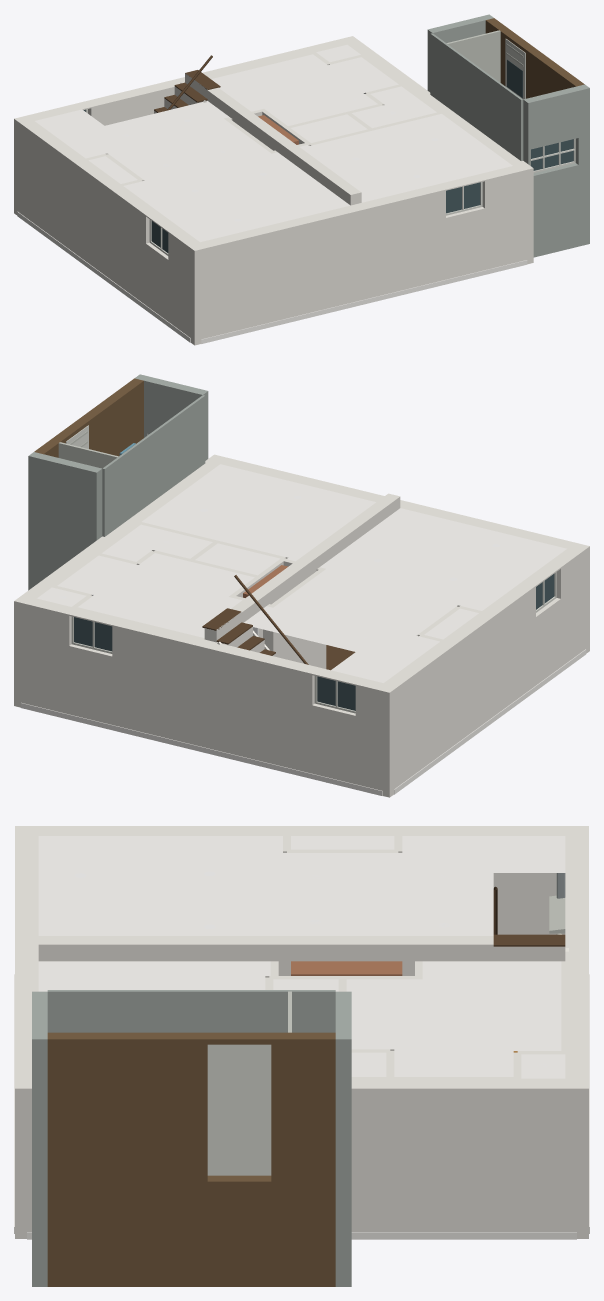
The picture shows the model from 3 angles, top to bottom: view 1: azimuth 30°, elevation 25°; view 2: azimuth 150°, elevation 25°; view 3: azimuth 270°, elevation 25°; orthographic projection. The views are drawn at different scales.
Visible parts, largest first — view 1: ext-top.001, Ceiling/living.001, Existing/Bulkhead window end/2/3.001, chimney-closet-return.001, ext-top/right trim.001, Existing/Bulkhead far wall/2/3.001, Existing/Window stairs/dark glass.001, Existing/Foundation reveal/stairs.001, Existing/Window stairs/rail1.001, Floor/living.001; view 2: ext-top.001, Ceiling/living.001, Existing/Bulkhead window end/2/3.001, chimney-closet-return.001, Existing/Bulkhead far wall/2/3.001, ext-top/right trim.001, Existing/Window stairs/dark glass.001, Floor/living.001, Existing/Window stairs/rail1.001, Existing/Foundation reveal/stairs.001; view 3: Ceiling/living.001, Existing/Bulkhead far wall/2/3.001, chimney-closet-return.001, Existing/Bulkhead window end/2/3.001, ext-top.001, Existing/Window stairs/rail1.001, ext-right-upper/right trim.001, chimney-mass.001, Floor/living.001, Existing/Foundation reveal/stairs.001.
Part boxes in pixels (bbox=[...]): ext-top.001: bbox=[14, 36, 533, 345]; Ceiling/living.001: bbox=[35, 44, 512, 242]; Existing/Bulkhead window end/2/3.001: bbox=[427, 14, 589, 257]; chimney-closet-return.001: bbox=[86, 36, 532, 205]; ext-top/right trim.001: bbox=[17, 211, 527, 343]; Existing/Bulkhead far wall/2/3.001: bbox=[485, 18, 584, 98]; Existing/Window stairs/dark glass.001: bbox=[83, 59, 573, 252]; Existing/Foundation reveal/stairs.001: bbox=[446, 30, 523, 82]; Existing/Window stairs/rail1.001: bbox=[85, 38, 575, 255]; Floor/living.001: bbox=[154, 55, 220, 112]; ext-top.001: bbox=[14, 454, 589, 797]; Ceiling/living.001: bbox=[37, 464, 566, 682]; Existing/Bulkhead window end/2/3.001: bbox=[28, 374, 208, 590]; chimney-closet-return.001: bbox=[14, 455, 481, 668]; Existing/Bulkhead far wall/2/3.001: bbox=[34, 378, 143, 457]; ext-top/right trim.001: bbox=[21, 649, 586, 795]; Existing/Window stairs/dark glass.001: bbox=[74, 574, 554, 710]; Floor/living.001: bbox=[202, 575, 355, 670]; Existing/Window stairs/rail1.001: bbox=[66, 425, 556, 713]; Existing/Foundation reveal/stairs.001: bbox=[58, 431, 118, 468]; Ceiling/living.001: bbox=[38, 836, 565, 1078]; Existing/Bulkhead far wall/2/3.001: bbox=[47, 1032, 335, 1286]; chimney-closet-return.001: bbox=[15, 836, 588, 1238]; Existing/Bulkhead window end/2/3.001: bbox=[32, 990, 351, 1286]; ext-top.001: bbox=[15, 826, 588, 1088]; Existing/Window stairs/rail1.001: bbox=[207, 1044, 271, 1175]; ext-right-upper/right trim.001: bbox=[27, 1232, 576, 1239]; chimney-mass.001: bbox=[291, 961, 402, 975]; Floor/living.001: bbox=[493, 886, 565, 946]; Existing/Foundation reveal/stairs.001: bbox=[288, 895, 565, 1032].
Bounding box in the file's own units: 9.41 × 3.64 × 7.37.
